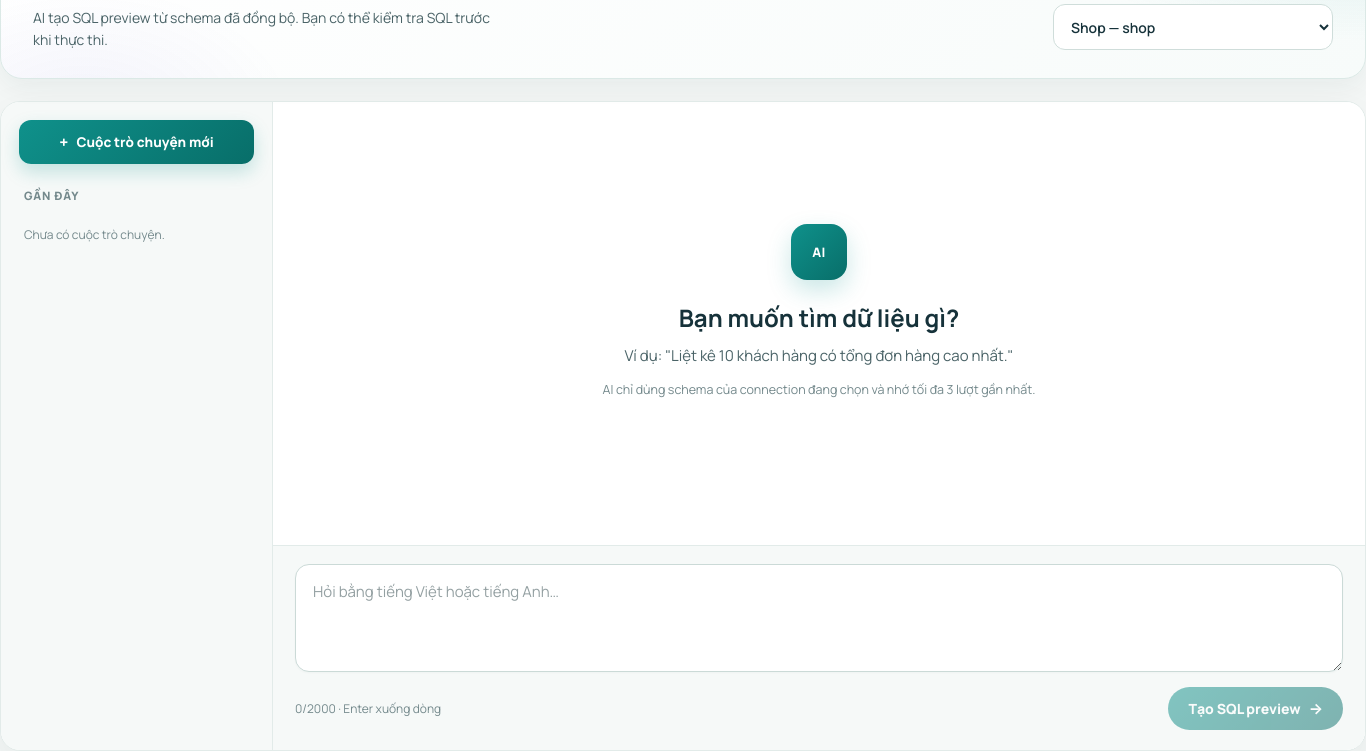
ChatPage › sends a question and renders the safe SQL preview
(page scrolled)
Type "Liệt kê đơn hàng" into the text box with placeholder "Hỏi bằng tiếng Việt hoặc tiếng Anh…".
click(819, 618); type("Liệt kê đơn hàng")  # box 295,564 -> 1343,672
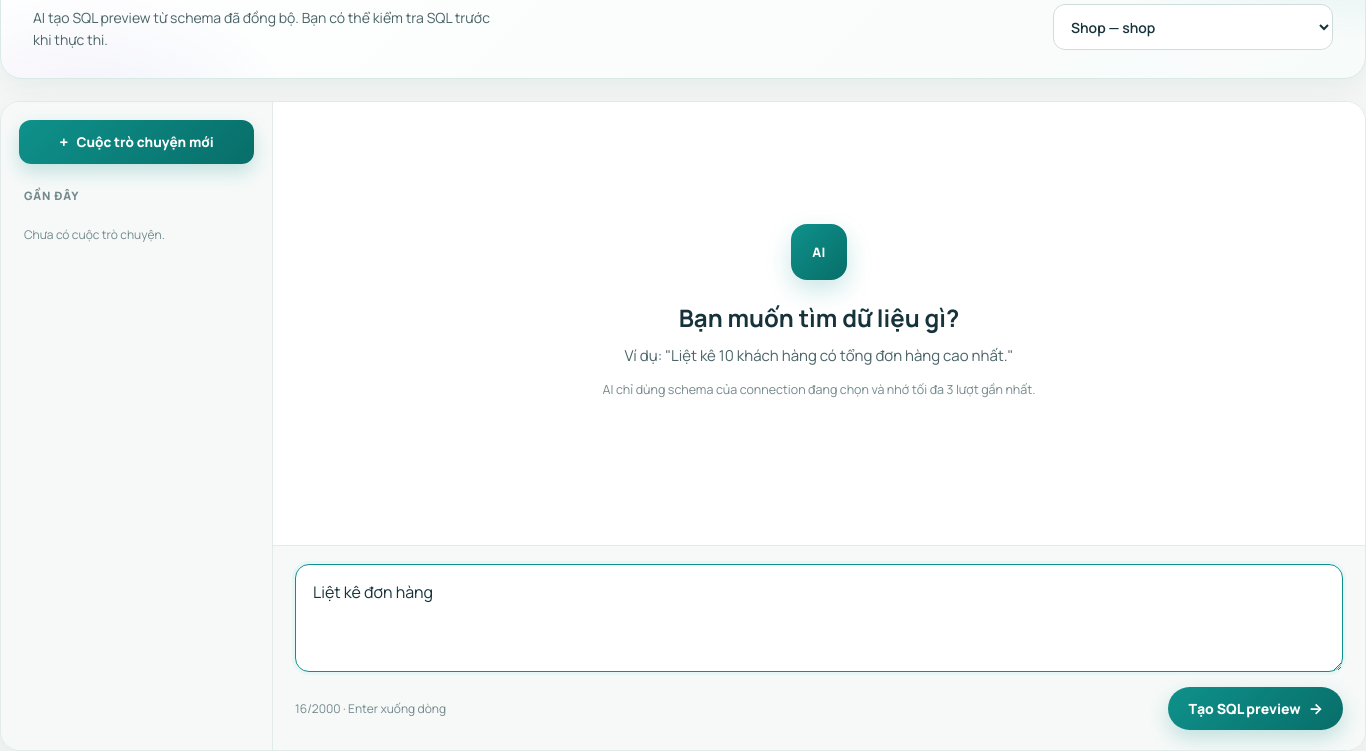
Click the button "Tạo SQL preview →".
click(1256, 709)  # box 1168,687 -> 1343,730
(page scrolled)
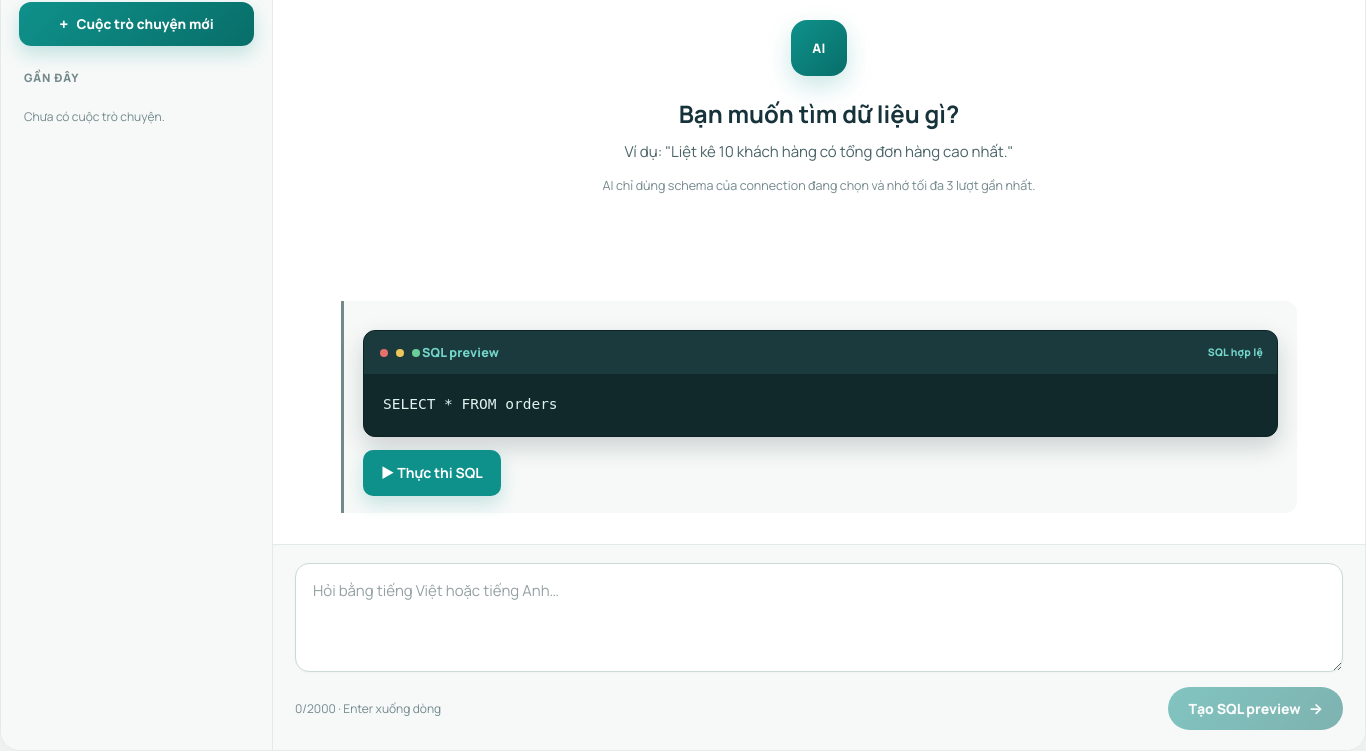
Now the text "SELECT * FROM orders" is shown, box 383,396 -> 558,412
Now the text "SQL hợp lệ" is shown, box 1208,344 -> 1263,361
